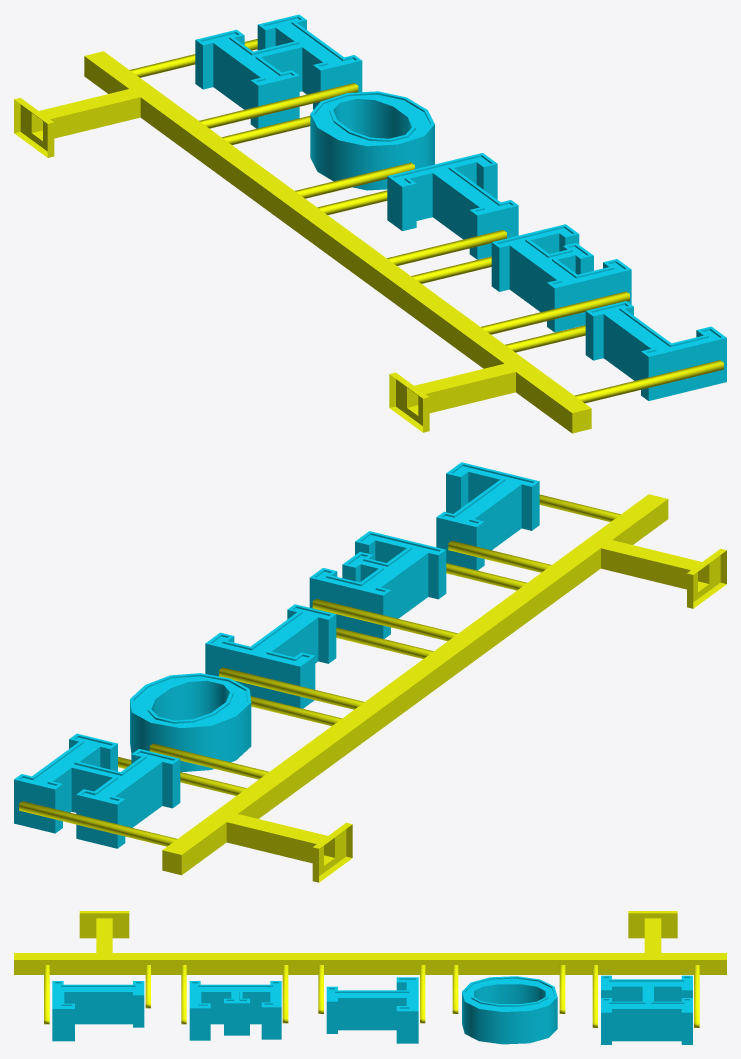
File: Hotel sign.FBX
3 views of the same model, one above another, from view 1: azimuth 30°, elevation 25°; view 2: azimuth 150°, elevation 25°; view 3: azimuth 270°, elevation 25° (orthographic). The views are drawn at different scales.
Visible parts, largest first — view 1: Hotel Sign; view 2: Hotel Sign; view 3: Hotel Sign.
Boxes of the visible parts, x1,y1,x2,y2 form: Hotel Sign: (14, 14, 726, 433); Hotel Sign: (14, 462, 726, 882); Hotel Sign: (14, 911, 726, 1044).
Size of the model in its own units: 45.47 by 6.5 by 130.
